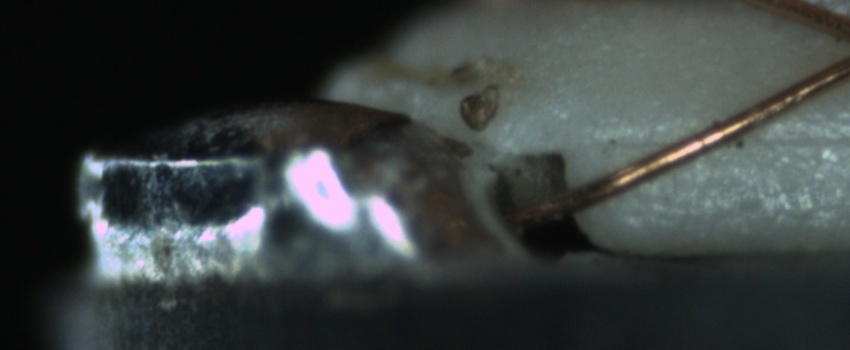CL: (835, 13, 850, 75)
DL: (624, 111, 849, 168)
